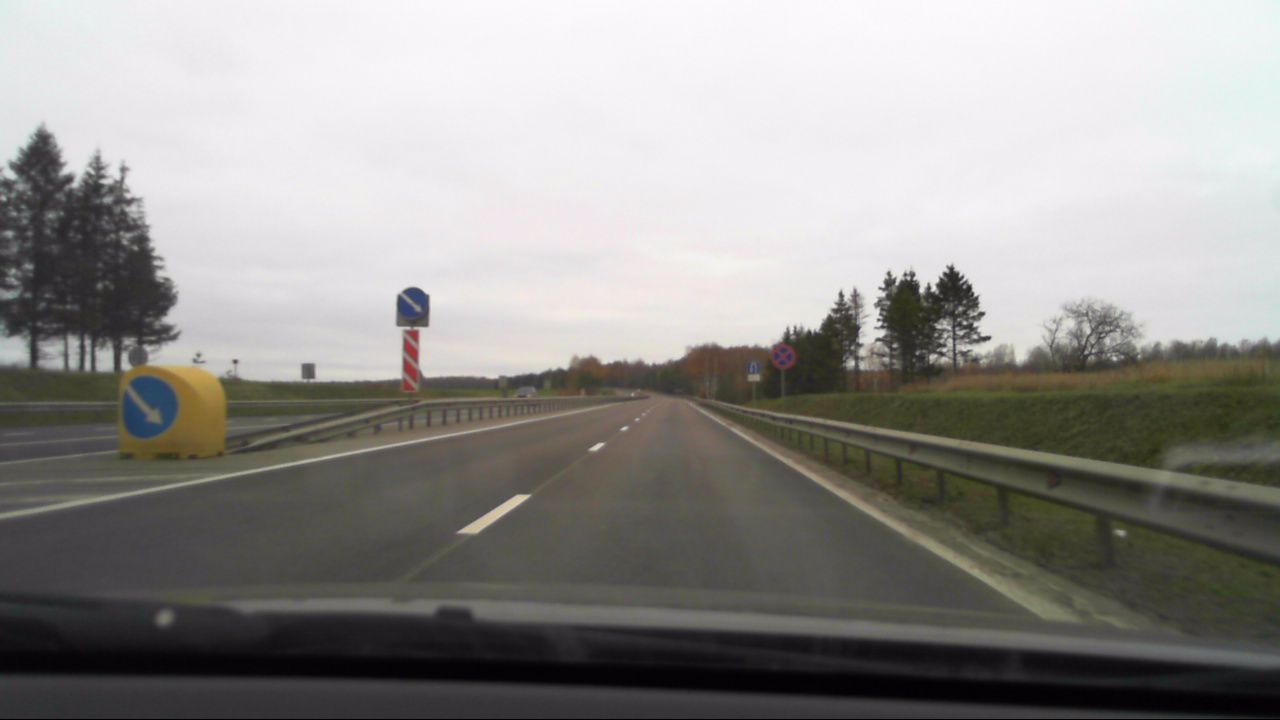No Parking: (769, 343, 796, 370)
U-turn: (747, 361, 759, 374)
